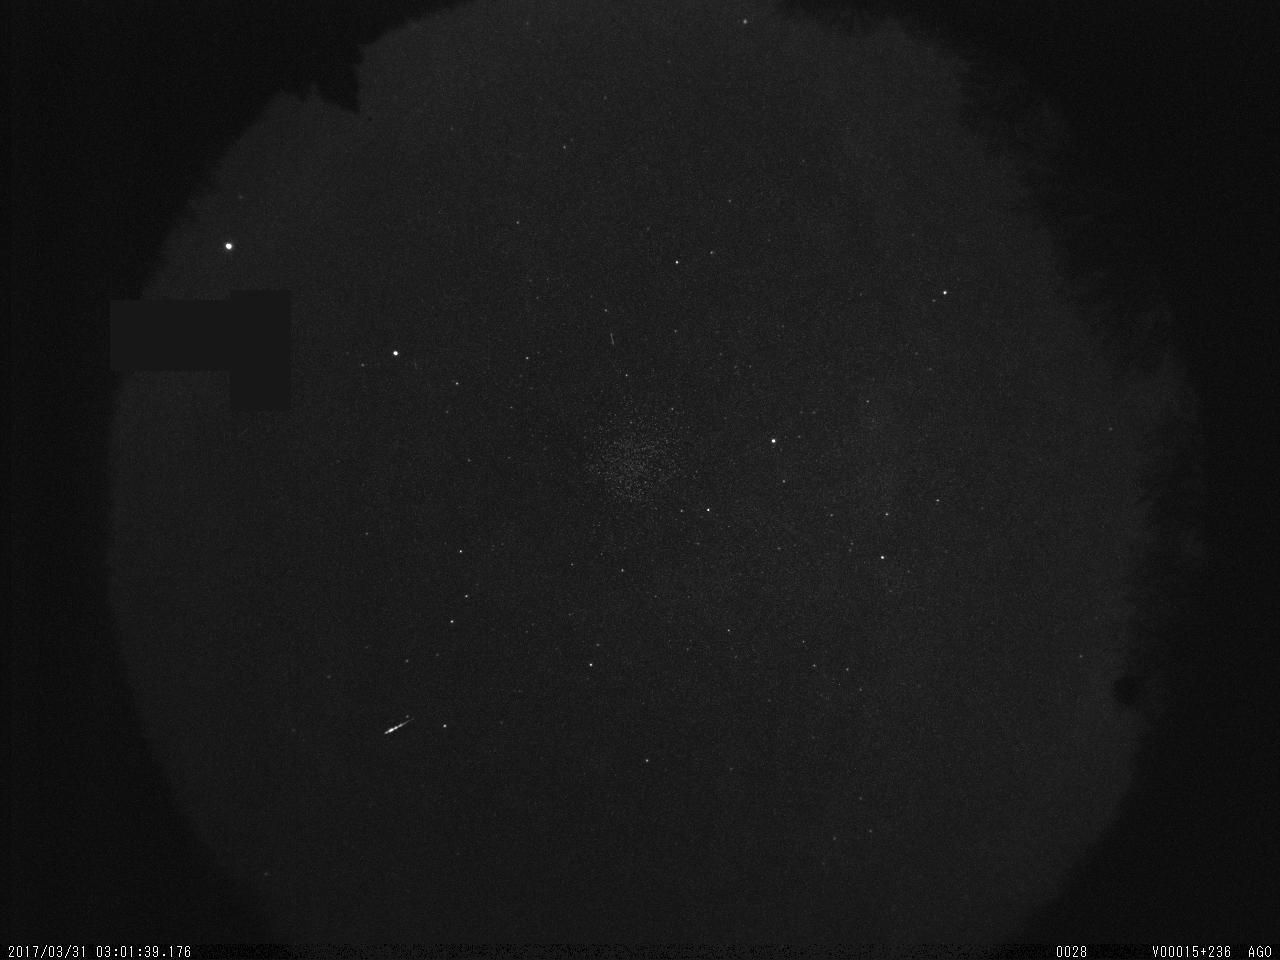meteor: (383, 703, 432, 748)
